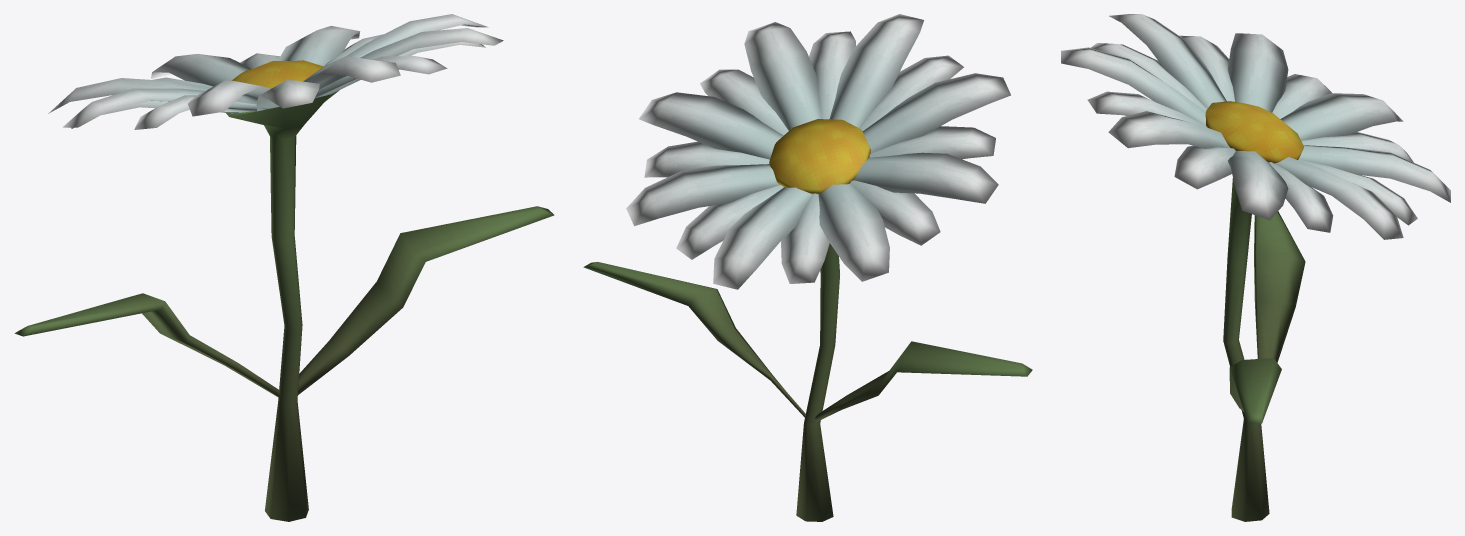
Rendered from Daisy.fbx.
The picture shows the model from 3 angles, left to right: view 1: azimuth 30°, elevation 25°; view 2: azimuth 150°, elevation 25°; view 3: azimuth 270°, elevation 25°; orthographic projection. The views are drawn at different scales.
Parts seen in each view (by area): view 1: Stem, flower; view 2: flower, Stem; view 3: flower, Stem.
Boxes of the visible parts, left/top/right/bottom form: Stem: left=14, top=90, right=554, bottom=521; flower: left=48, top=14, right=503, bottom=129; flower: left=626, top=14, right=1010, bottom=289; Stem: left=583, top=243, right=1032, bottom=521; flower: left=1061, top=14, right=1450, bottom=239; Stem: left=1223, top=178, right=1305, bottom=521.
Bounding box in the file's own units: 266 × 249 × 192.
2 materials, 2 textured.
